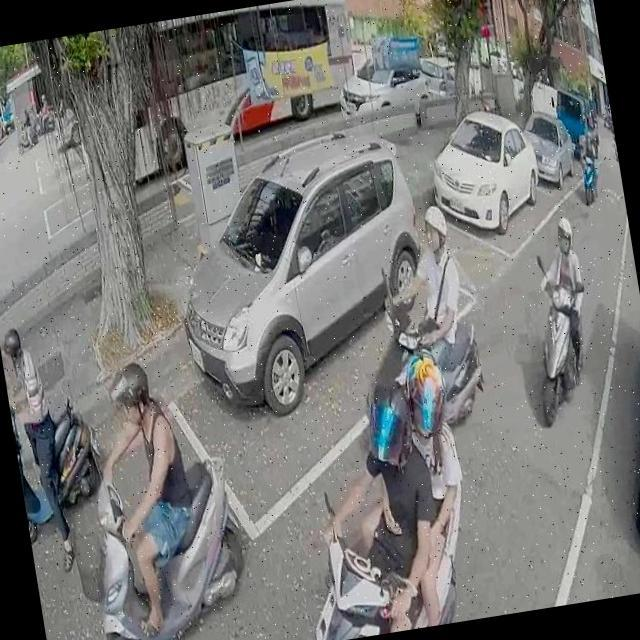person: (334, 330, 486, 634), (295, 375, 452, 640), (81, 350, 213, 640), (0, 323, 74, 565), (396, 196, 473, 374), (526, 218, 598, 386), (575, 129, 602, 200), (97, 624, 157, 640), (17, 107, 34, 147)
